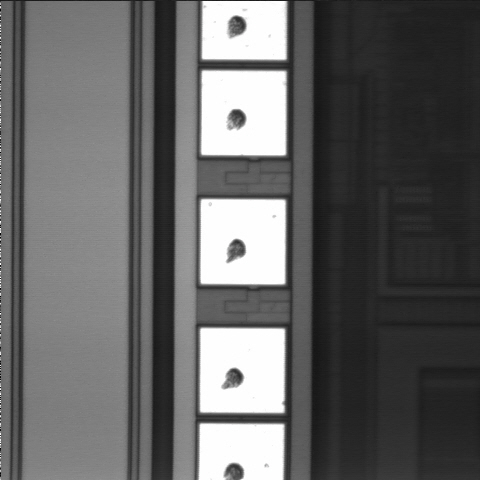pad: (200, 199, 286, 284), (200, 328, 285, 413), (201, 71, 286, 155)
